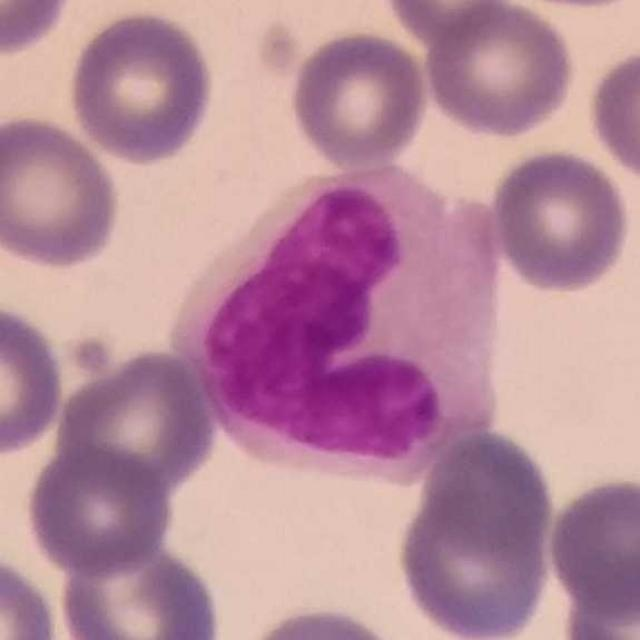mono: (170, 159, 505, 488)
